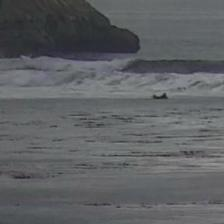surfer: (154, 92, 168, 99)
